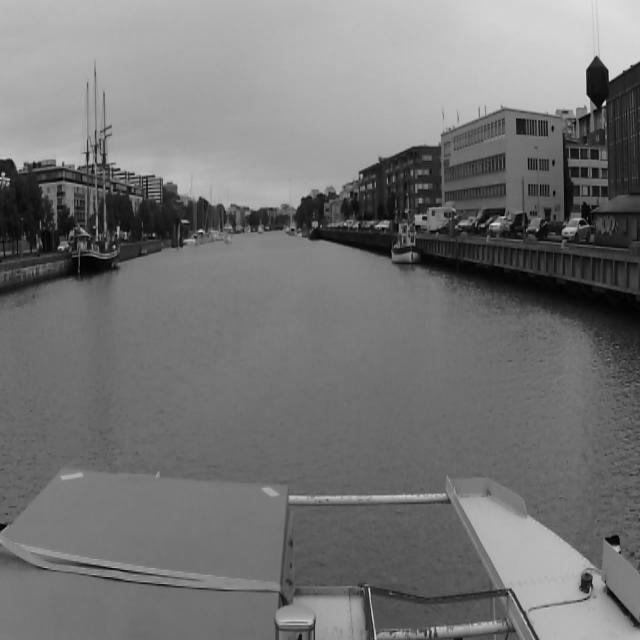ship: (73, 58, 121, 279), (391, 192, 419, 265), (192, 157, 212, 247), (213, 185, 230, 242), (308, 211, 322, 241)
